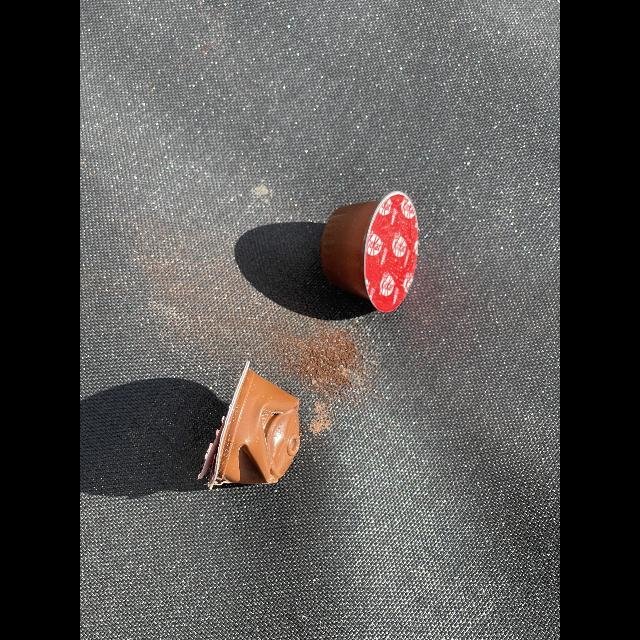damaged_capsule: (191, 353, 323, 502)
intact_capsule: (308, 184, 434, 320)
